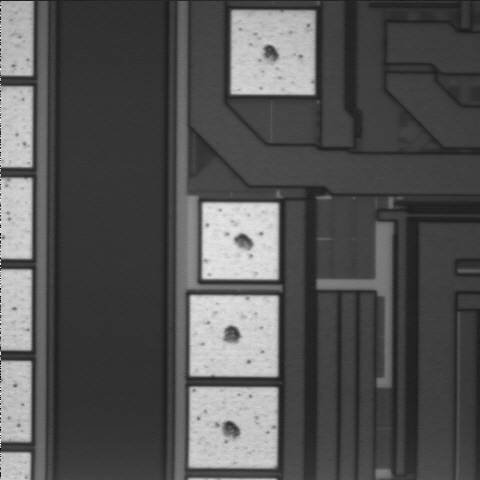pad: (189, 387, 277, 468), (190, 296, 278, 376), (231, 11, 314, 94), (202, 203, 278, 279)
